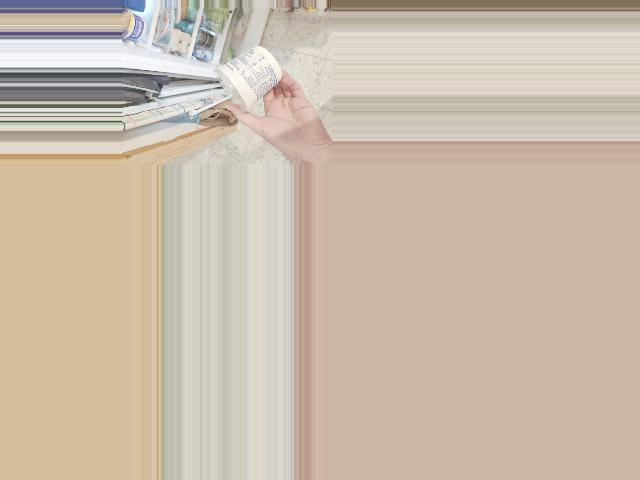cotage: (212, 44, 284, 110)
